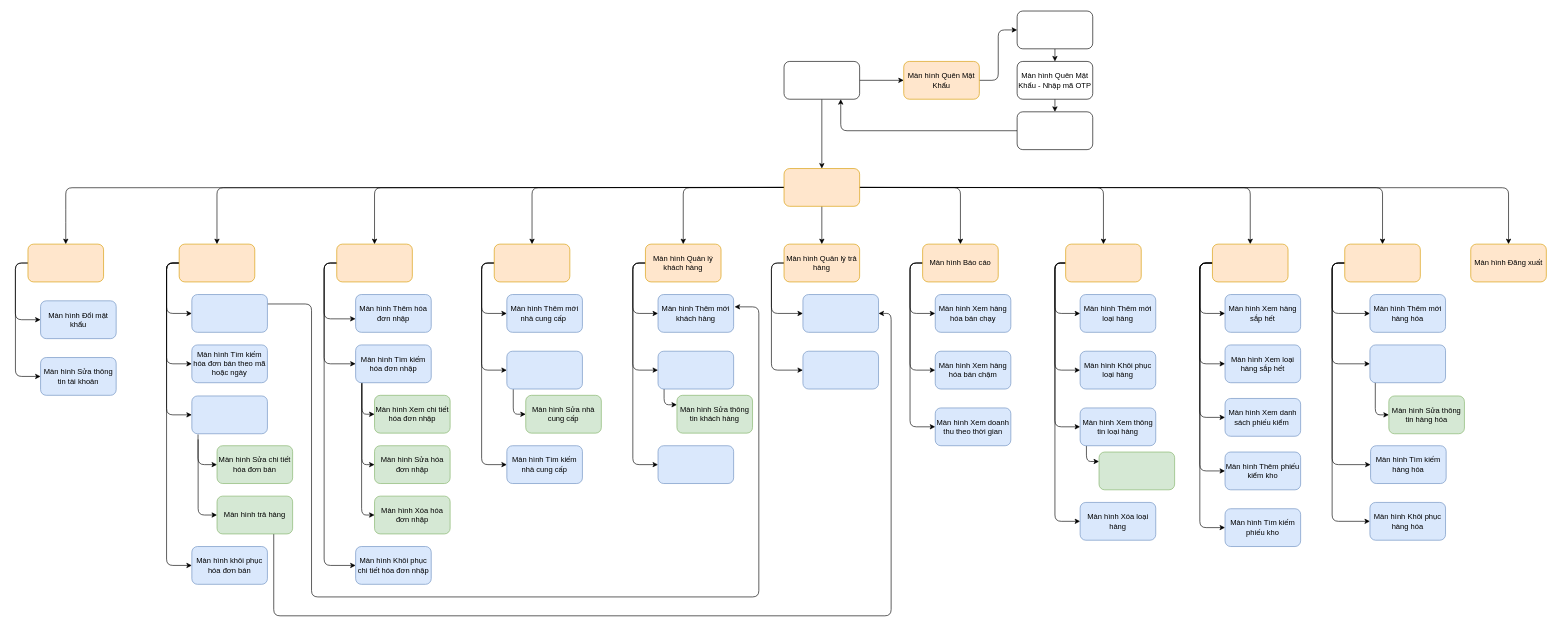
Image size: 1558x632. Some labels were removed from this diagram. Here are the shapes that lost their labels. From the top down, the box of each, then its label:
(1017, 10, 1093, 49): Màn hình Quên Mật Khẩu - Nhập SDT
(783, 61, 860, 99): Màn hình Đăng Nhập
(1017, 111, 1093, 150): Màn hình Quên Mật Khẩu - Đổi mật khẩu
(783, 168, 860, 206): Trang Chủ
(27, 243, 104, 282): Màn hình Thông tin tài khoản
(179, 243, 255, 282): Màn hình Quản lý hóa đơn bán
(336, 243, 412, 282): Màn hình Quản lý nhập hàng
(494, 243, 570, 282): Màn hình Quản lý nhà cung cấp
(1065, 243, 1141, 282): Màn hình Quản lý loại hàng
(1212, 243, 1288, 282): Màn hình Quản lý kho
(1344, 243, 1420, 282): Màn hình Quản lý hàng hóa
(191, 294, 267, 332): Màn hình Thêm hóa đơn bán
(802, 294, 879, 332): Màn hình Xem phiếu trả
(506, 351, 582, 389): Màn hình Xem thông tin nhà cung cấp
(657, 351, 734, 389): Màn hình Xem thông tin khách hàng
(802, 351, 879, 389): Màn hình Tìm kiếm phiếu trả
(1369, 344, 1446, 383): Màn hình Xem thông tin hàng hóa
(191, 395, 267, 434): Màn hình Xem chi tiết hóa đơn bán
(657, 445, 734, 484): Màn hình Tìm kiếm khách hàng
(1098, 451, 1175, 490): Màn hình Sửa loại hàng
